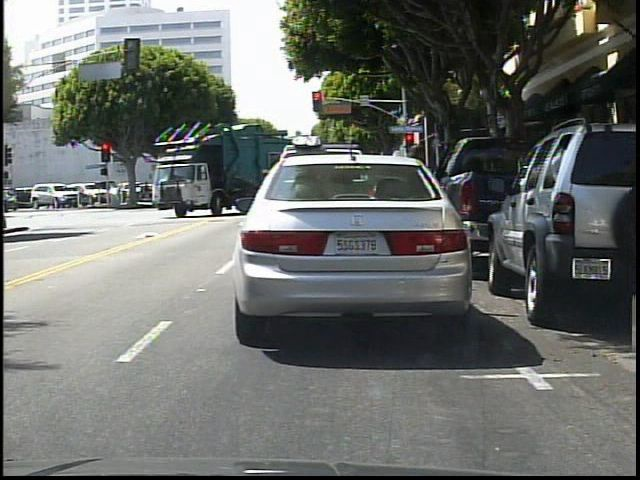person: (396, 140, 446, 258)
